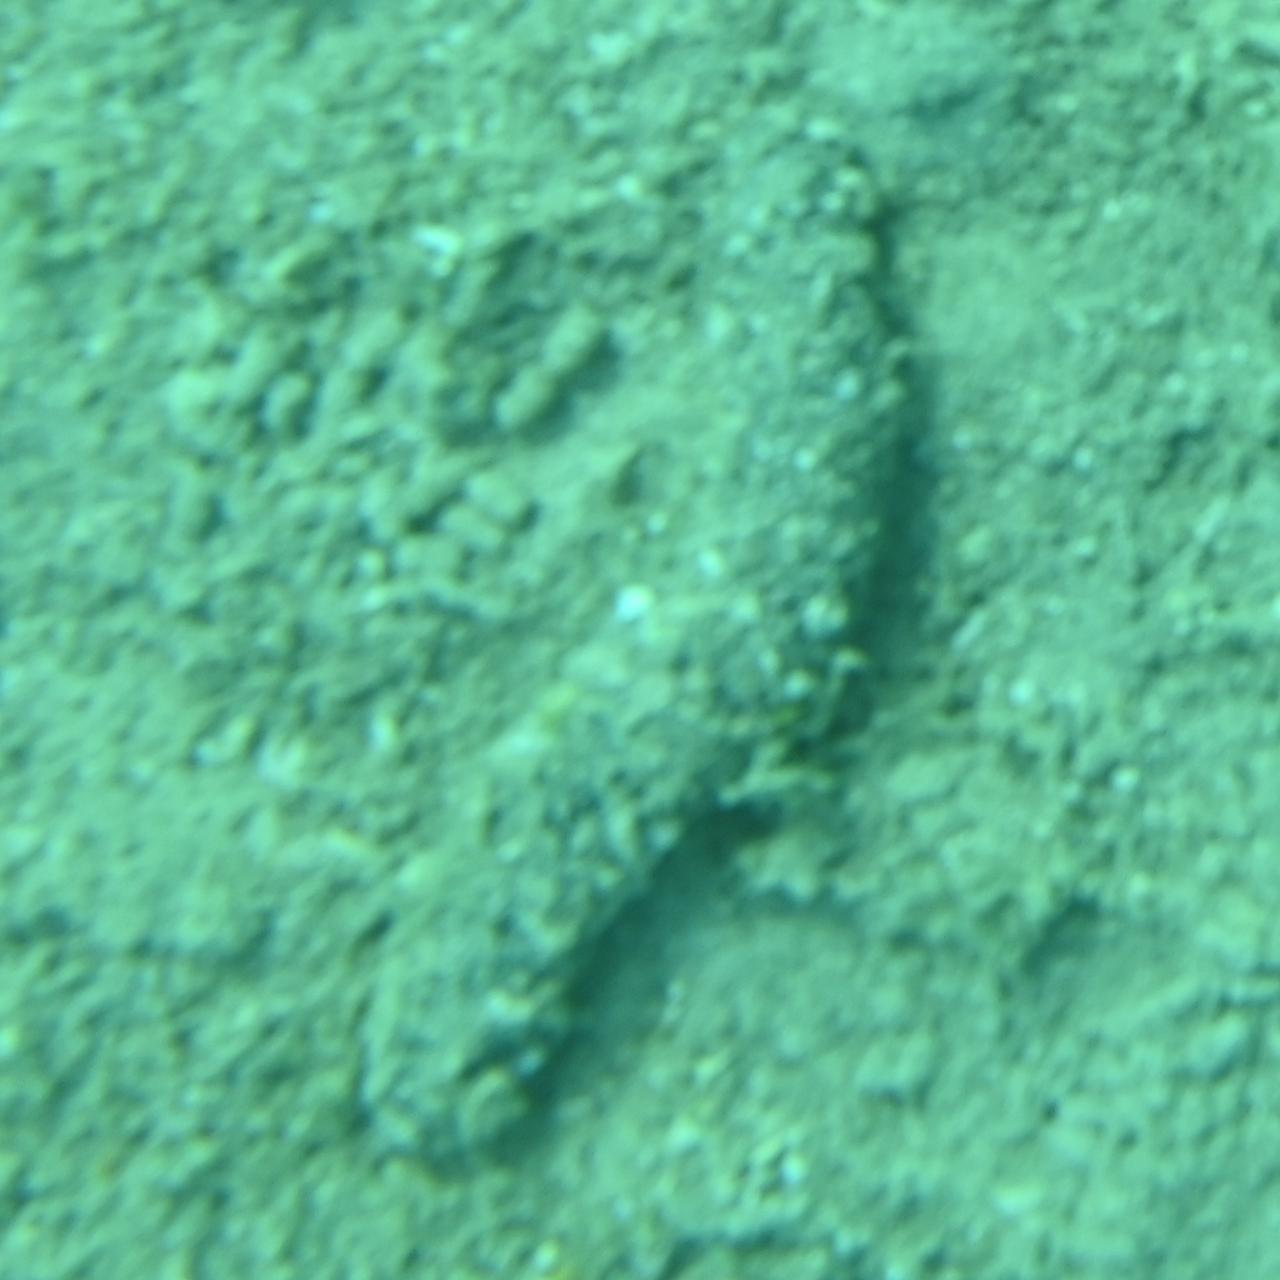Holothuria tubulosa: (328, 88, 952, 1192)
